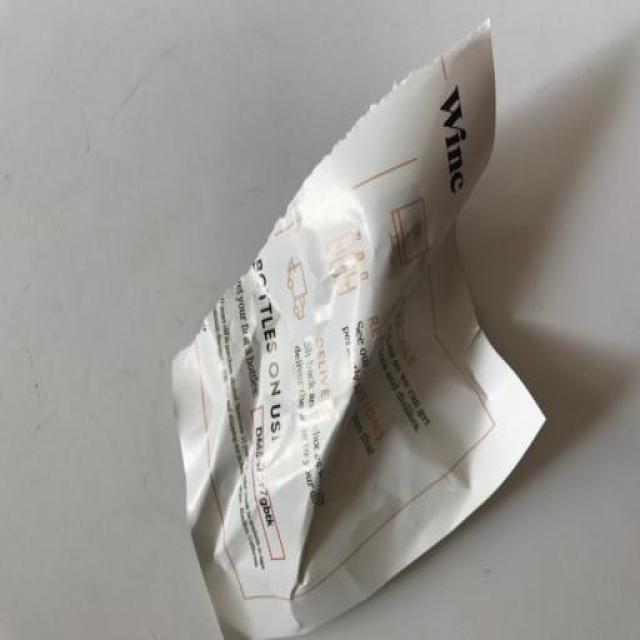paper: (160, 12, 551, 640)
